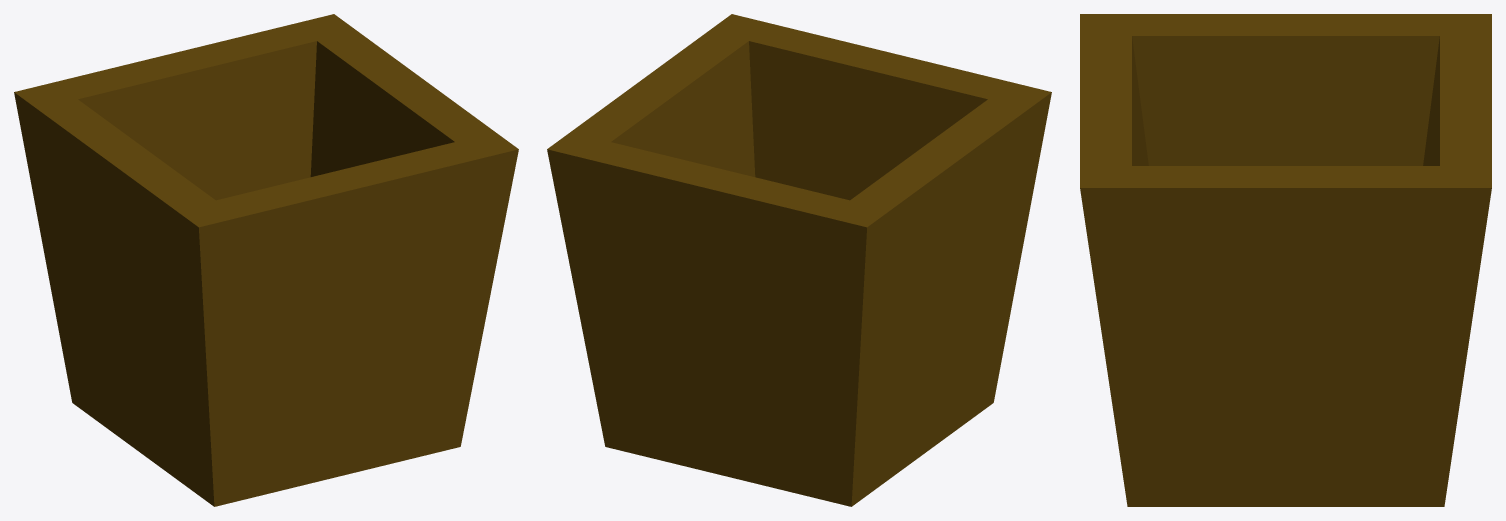
Rendered from Bucket 02.FBX.
3 views of the same model, side by side, from view 1: azimuth 30°, elevation 25°; view 2: azimuth 150°, elevation 25°; view 3: azimuth 270°, elevation 25° (orthographic). The views are drawn at different scales.
Visible parts, largest first — view 1: Bucket 02; view 2: Bucket 02; view 3: Bucket 02.
Part boxes in pixels (left/top/right/bottom): Bucket 02: left=14, top=14, right=518, bottom=506; Bucket 02: left=547, top=14, right=1051, bottom=506; Bucket 02: left=1080, top=14, right=1491, bottom=506.
Bounding box in the file's own units: 57.28 × 52.01 × 57.28.
